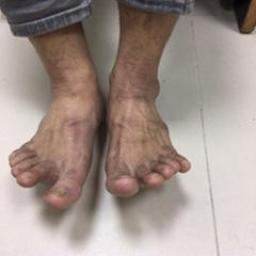Front View -Both Feet-: (4, 53, 198, 221)
